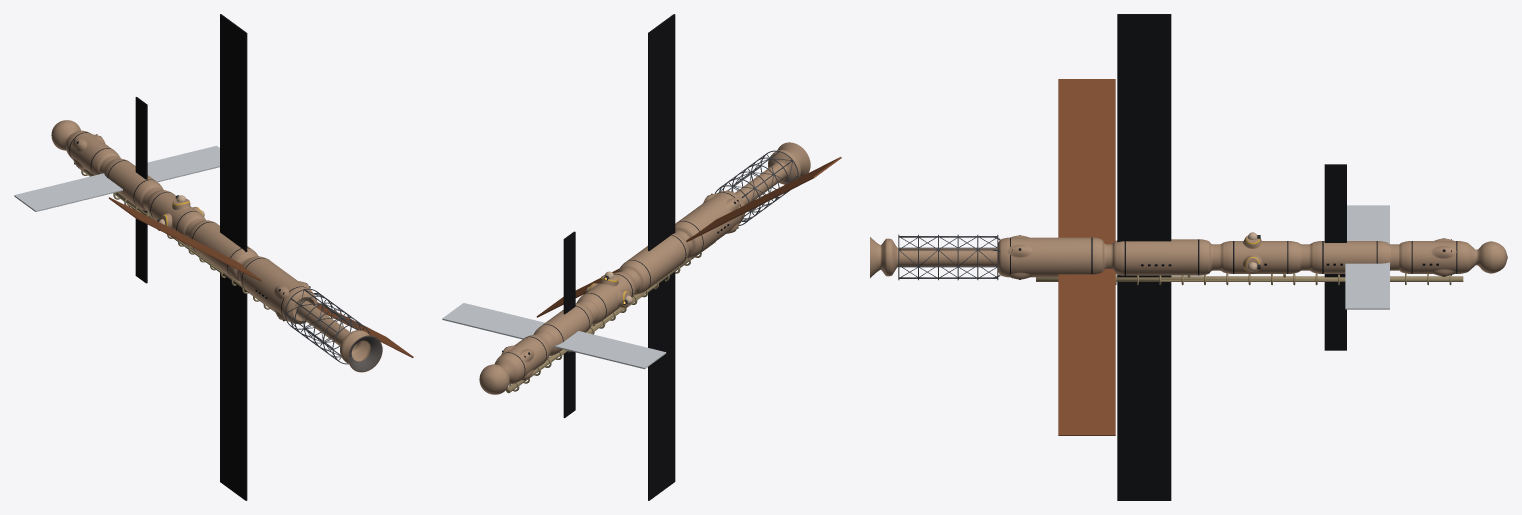
The model's file is mars.glb.
3 renders of one model, left to right at view 1: azimuth 30°, elevation 25°; view 2: azimuth 150°, elevation 25°; view 3: azimuth 270°, elevation 25°, orthographic. The views are drawn at different scales.
Parts seen in each view (by area): view 1: B_hull, Rad4_dark, Rad5_dark, Rad1_light, A_core, N_hull, Rad0_light, Rad6_bronze, Rad2_dark, Rad3_dark, A_bell, Rad7_bronze; view 2: B_hull, Rad4_dark, Rad5_dark, N_hull, Rad1_light, A_core, Rad0_light, Rad6_bronze, Rad2_dark, Rad3_dark, B_coil_barrel; view 3: Rad4_dark, B_hull, Rad5_dark, Rad7_bronze, Rad6_bronze, N_hull, A_core, Rad0_light, Rad2_dark, Rad3_dark, B_coil_barrel, Rad1_light.
Boxes of the visible parts, x1=… form: B_hull: x1=99, y1=156, x2=317, y2=324; Rad4_dark: x1=220, y1=14, x2=247, y2=251; Rad5_dark: x1=220, y1=273, x2=247, y2=500; Rad1_light: x1=14, y1=173, x2=122, y2=211; A_core: x1=296, y1=301, x2=382, y2=372; N_hull: x1=51, y1=120, x2=120, y2=175; Rad0_light: x1=147, y1=145, x2=219, y2=182; Rad6_bronze: x1=108, y1=197, x2=261, y2=281; Rad2_dark: x1=135, y1=97, x2=147, y2=179; Rad3_dark: x1=135, y1=210, x2=147, y2=283; A_bell: x1=348, y1=336, x2=382, y2=371; Rad7_bronze: x1=317, y1=302, x2=413, y2=357; B_hull: x1=533, y1=190, x2=745, y2=356; Rad4_dark: x1=648, y1=14, x2=675, y2=250; Rad5_dark: x1=648, y1=272, x2=675, y2=500; N_hull: x1=479, y1=335, x2=549, y2=394; Rad1_light: x1=554, y1=331, x2=666, y2=369; A_core: x1=735, y1=142, x2=810, y2=204; Rad0_light: x1=442, y1=303, x2=544, y2=339; Rad6_bronze: x1=686, y1=157, x2=841, y2=241; Rad2_dark: x1=563, y1=231, x2=575, y2=314; Rad3_dark: x1=563, y1=351, x2=575, y2=417; B_coil_barrel: x1=506, y1=241, x2=715, y2=393; Rad4_dark: x1=1117, y1=14, x2=1171, y2=242; B_hull: x1=998, y1=237, x2=1399, y2=277; Rad5_dark: x1=1117, y1=274, x2=1171, y2=500; Rad7_bronze: x1=1058, y1=268, x2=1115, y2=435; Rad6_bronze: x1=1058, y1=79, x2=1115, y2=244; N_hull: x1=1399, y1=241, x2=1507, y2=273; A_core: x1=870, y1=237, x2=997, y2=277; Rad0_light: x1=1345, y1=262, x2=1389, y2=309; Rad2_dark: x1=1324, y1=164, x2=1346, y2=242; Rad3_dark: x1=1324, y1=274, x2=1346, y2=350; B_coil_barrel: x1=1036, y1=276, x2=1463, y2=281; Rad1_light: x1=1347, y1=205, x2=1389, y2=243.
Bounding box in the file's own units: 68.01 × 109 × 130.
